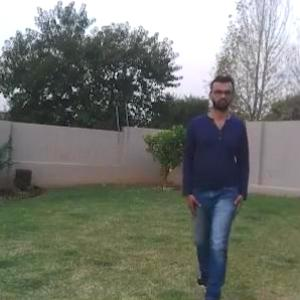follow: (181, 70, 248, 299)
